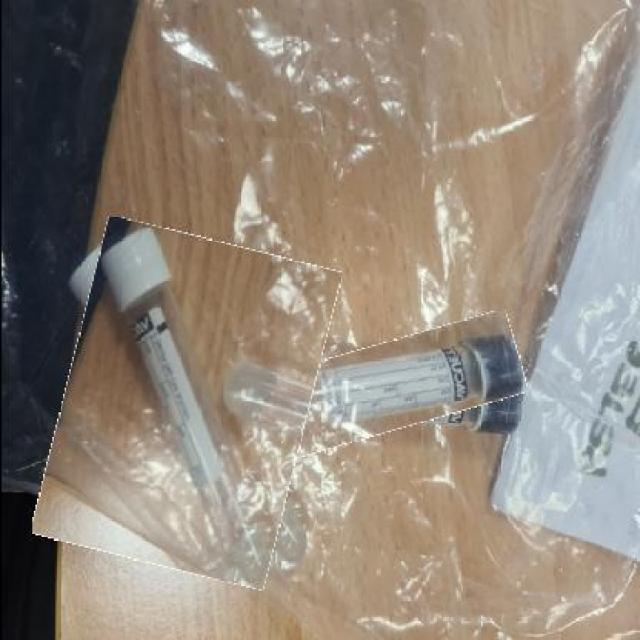Experimental-tube: (46, 227, 323, 578), (215, 329, 523, 453)
